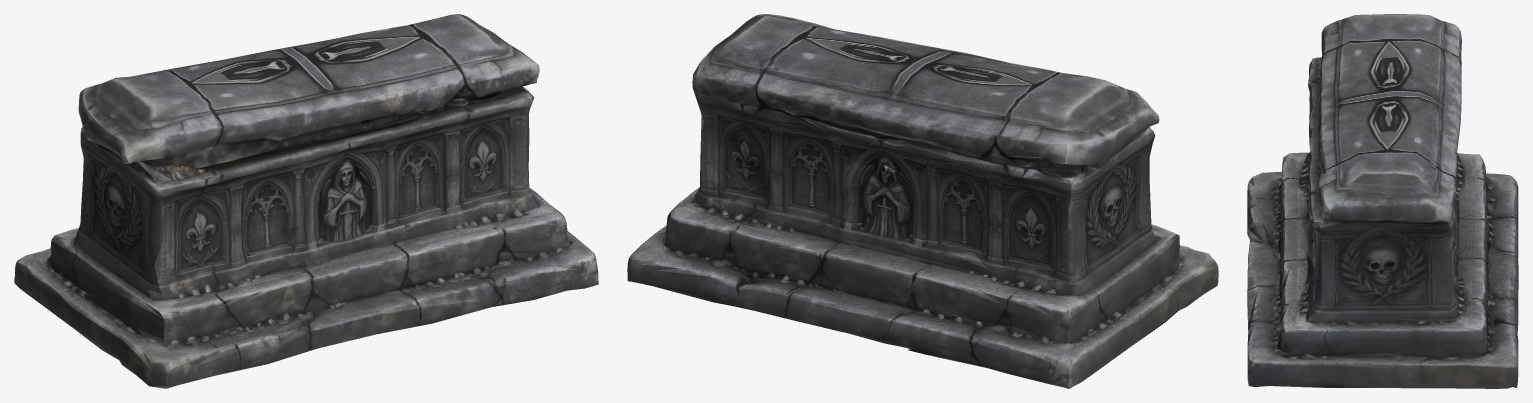
File: stone-sarcophagus.glb
3 views of the same model, side by side, from view 1: azimuth 30°, elevation 25°; view 2: azimuth 150°, elevation 25°; view 3: azimuth 270°, elevation 25° (orthographic). The views are drawn at different scales.
Visible parts, largest first — view 1: geometry_0; view 2: geometry_0; view 3: geometry_0.
Part boxes in pixels (x1=…): geometry_0: x1=14, y1=14, x2=598, y2=388; geometry_0: x1=627, y1=14, x2=1218, y2=388; geometry_0: x1=1247, y1=14, x2=1518, y2=388.
Size of the model in its own units: 2 by 0.9778 by 1.17.
1 material, 1 textured.
